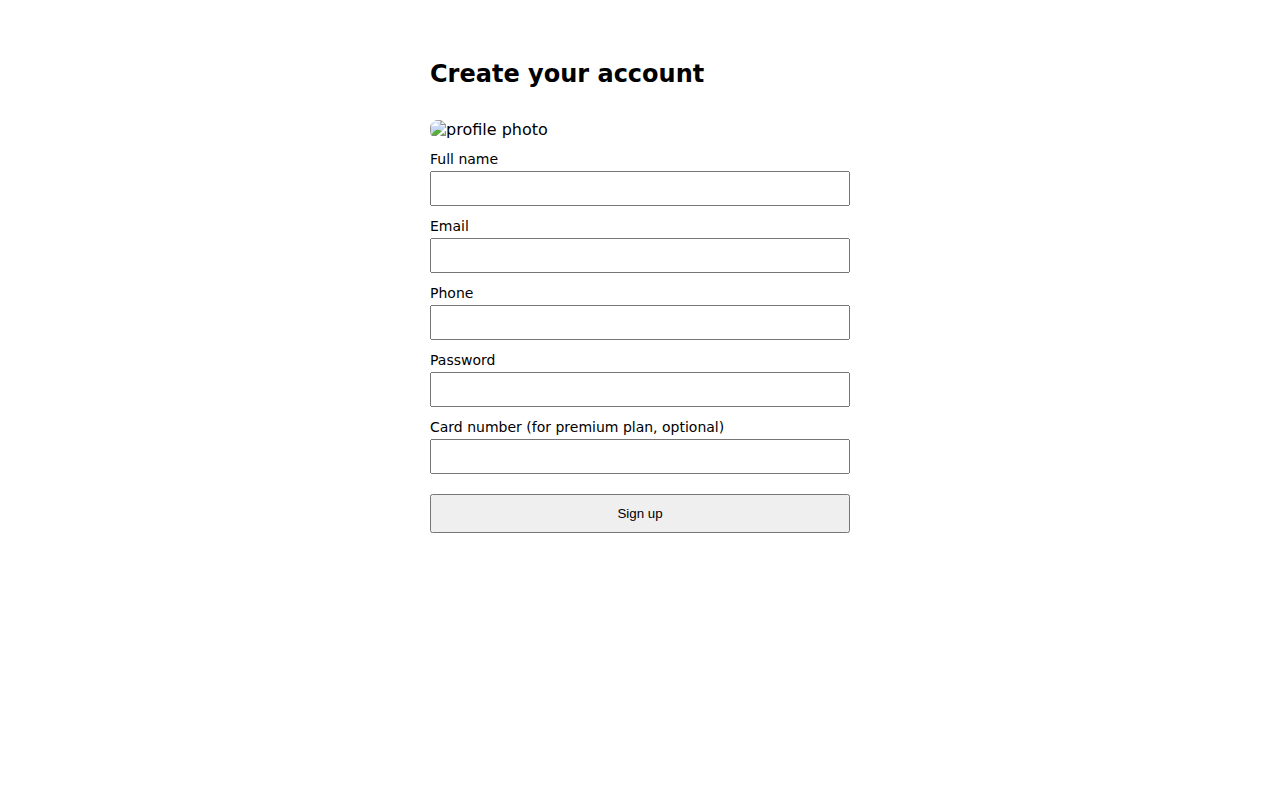button: (430, 494, 850, 533)
image: (430, 120, 548, 139)
input: (430, 171, 850, 206), (430, 238, 850, 273), (430, 305, 850, 340), (430, 372, 850, 407), (430, 439, 850, 474)
